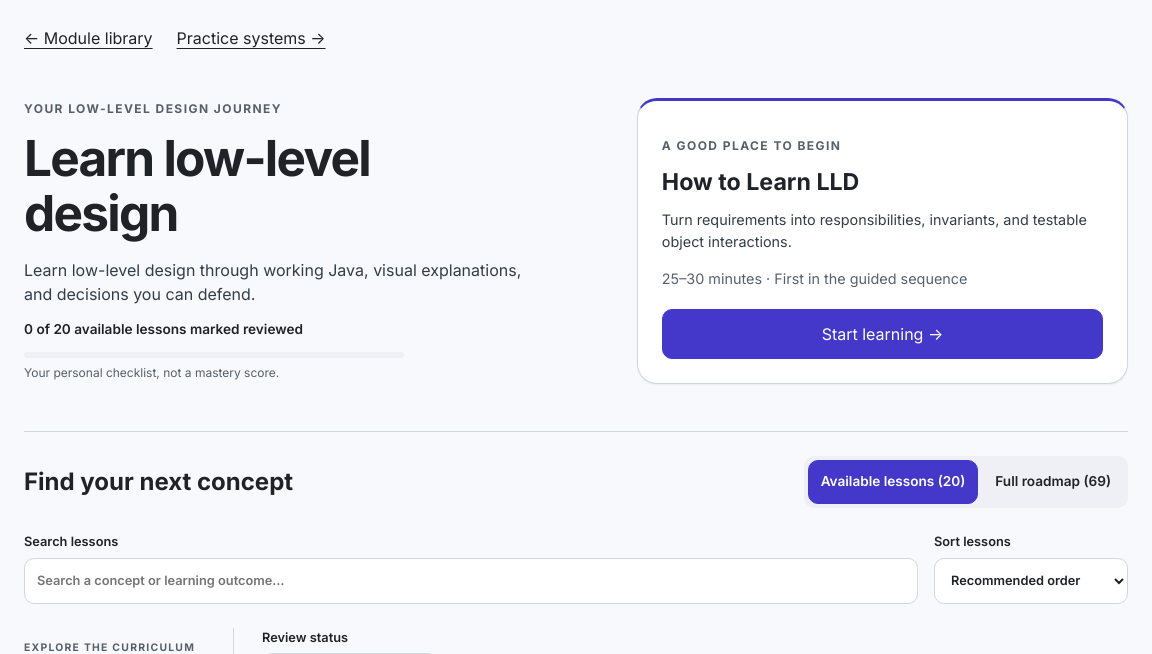
Test: Learning catalog discovery › offers planned-only search results in an explicitly labelled roadmap without lesson links
In the search field labelled "Search lessons": x=471, y=581 [24, 558, 918, 604], type "SOLID"
(page scrolled)
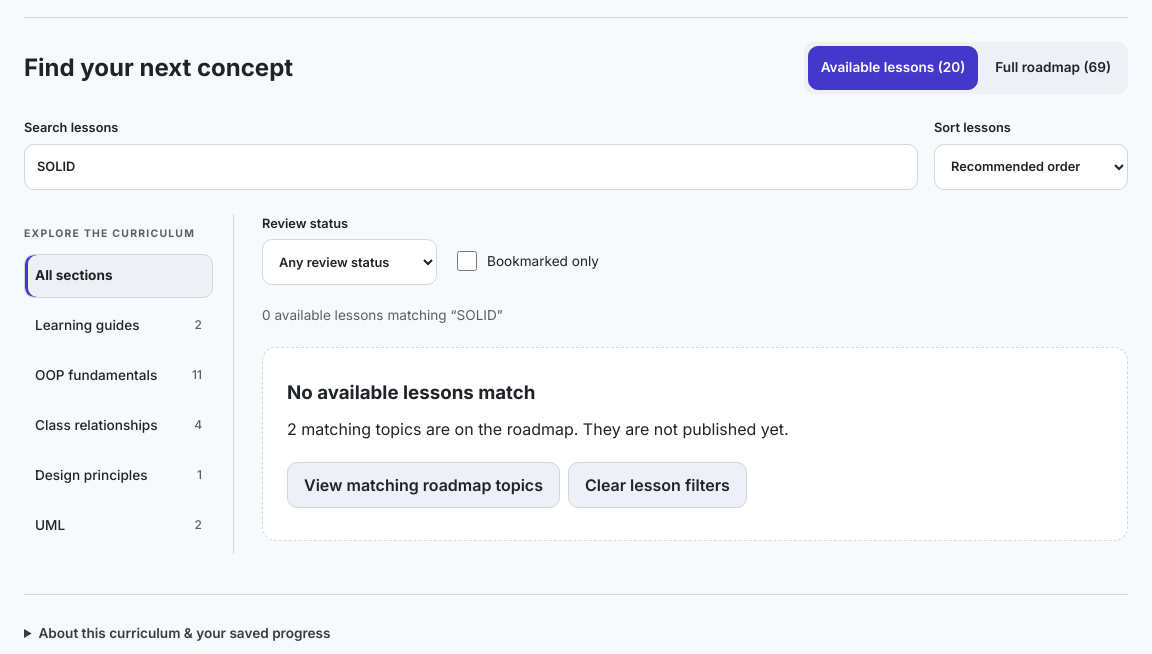
Expected: the message shows "0 available lessons", [262, 307, 503, 323]
Click the button "View matching roadmap topics": x=423, y=485 [287, 462, 560, 508]
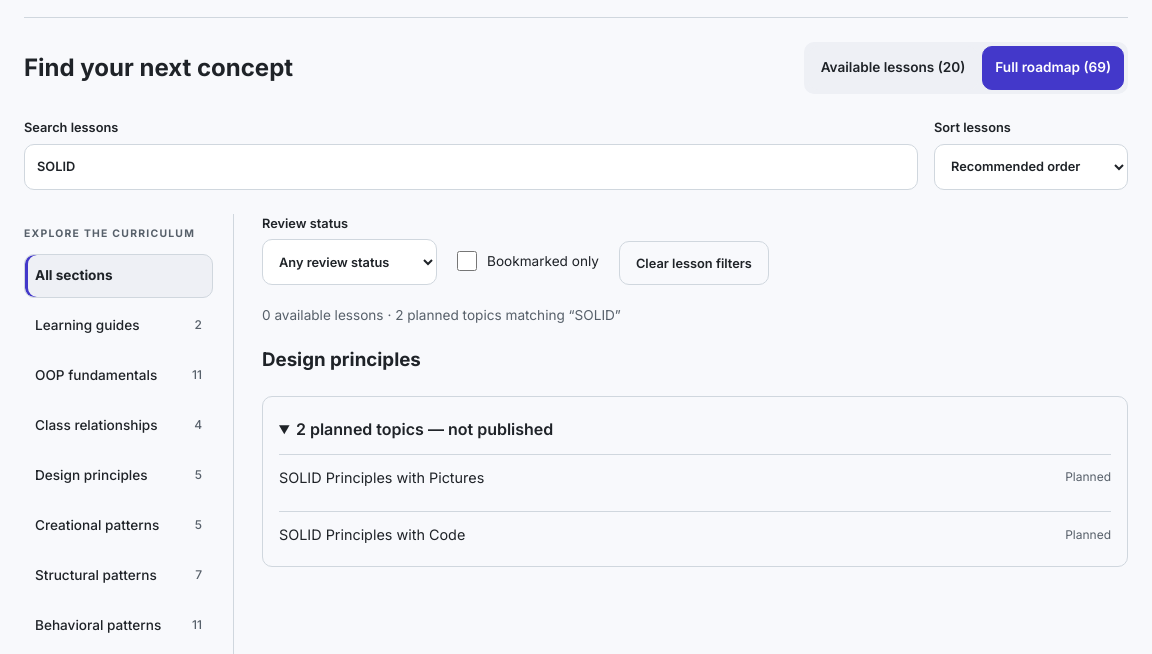
Now the text "SOLID Principles with Pictures" is shown, box [279, 467, 484, 489]
Now the text "SOLID Principles with Code" is shown, box [279, 524, 465, 546]
Now the heading "2 planned topics — not published" is shown, box [296, 419, 553, 439]
